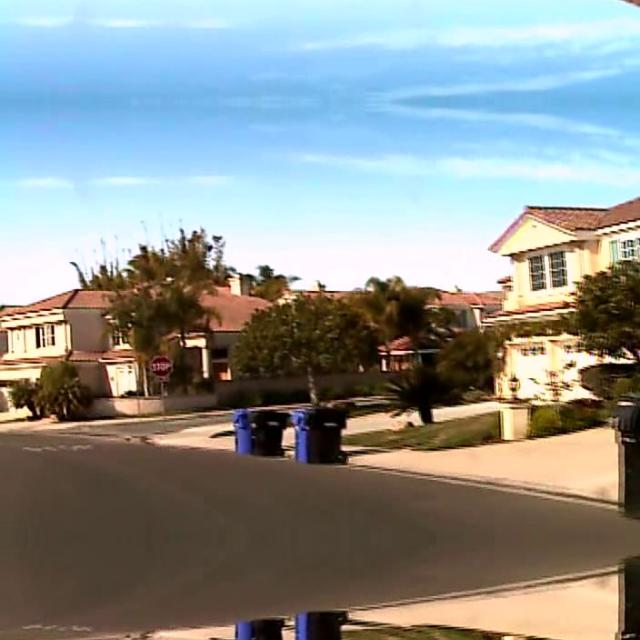stop: (148, 355, 172, 377)
